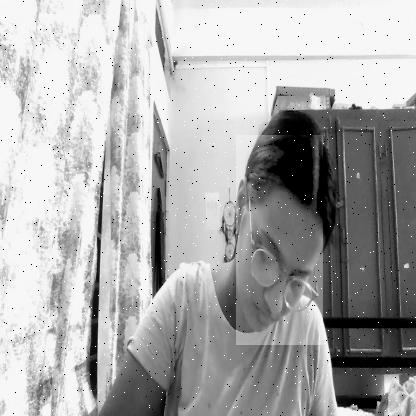Distracted: (236, 136, 323, 346)
